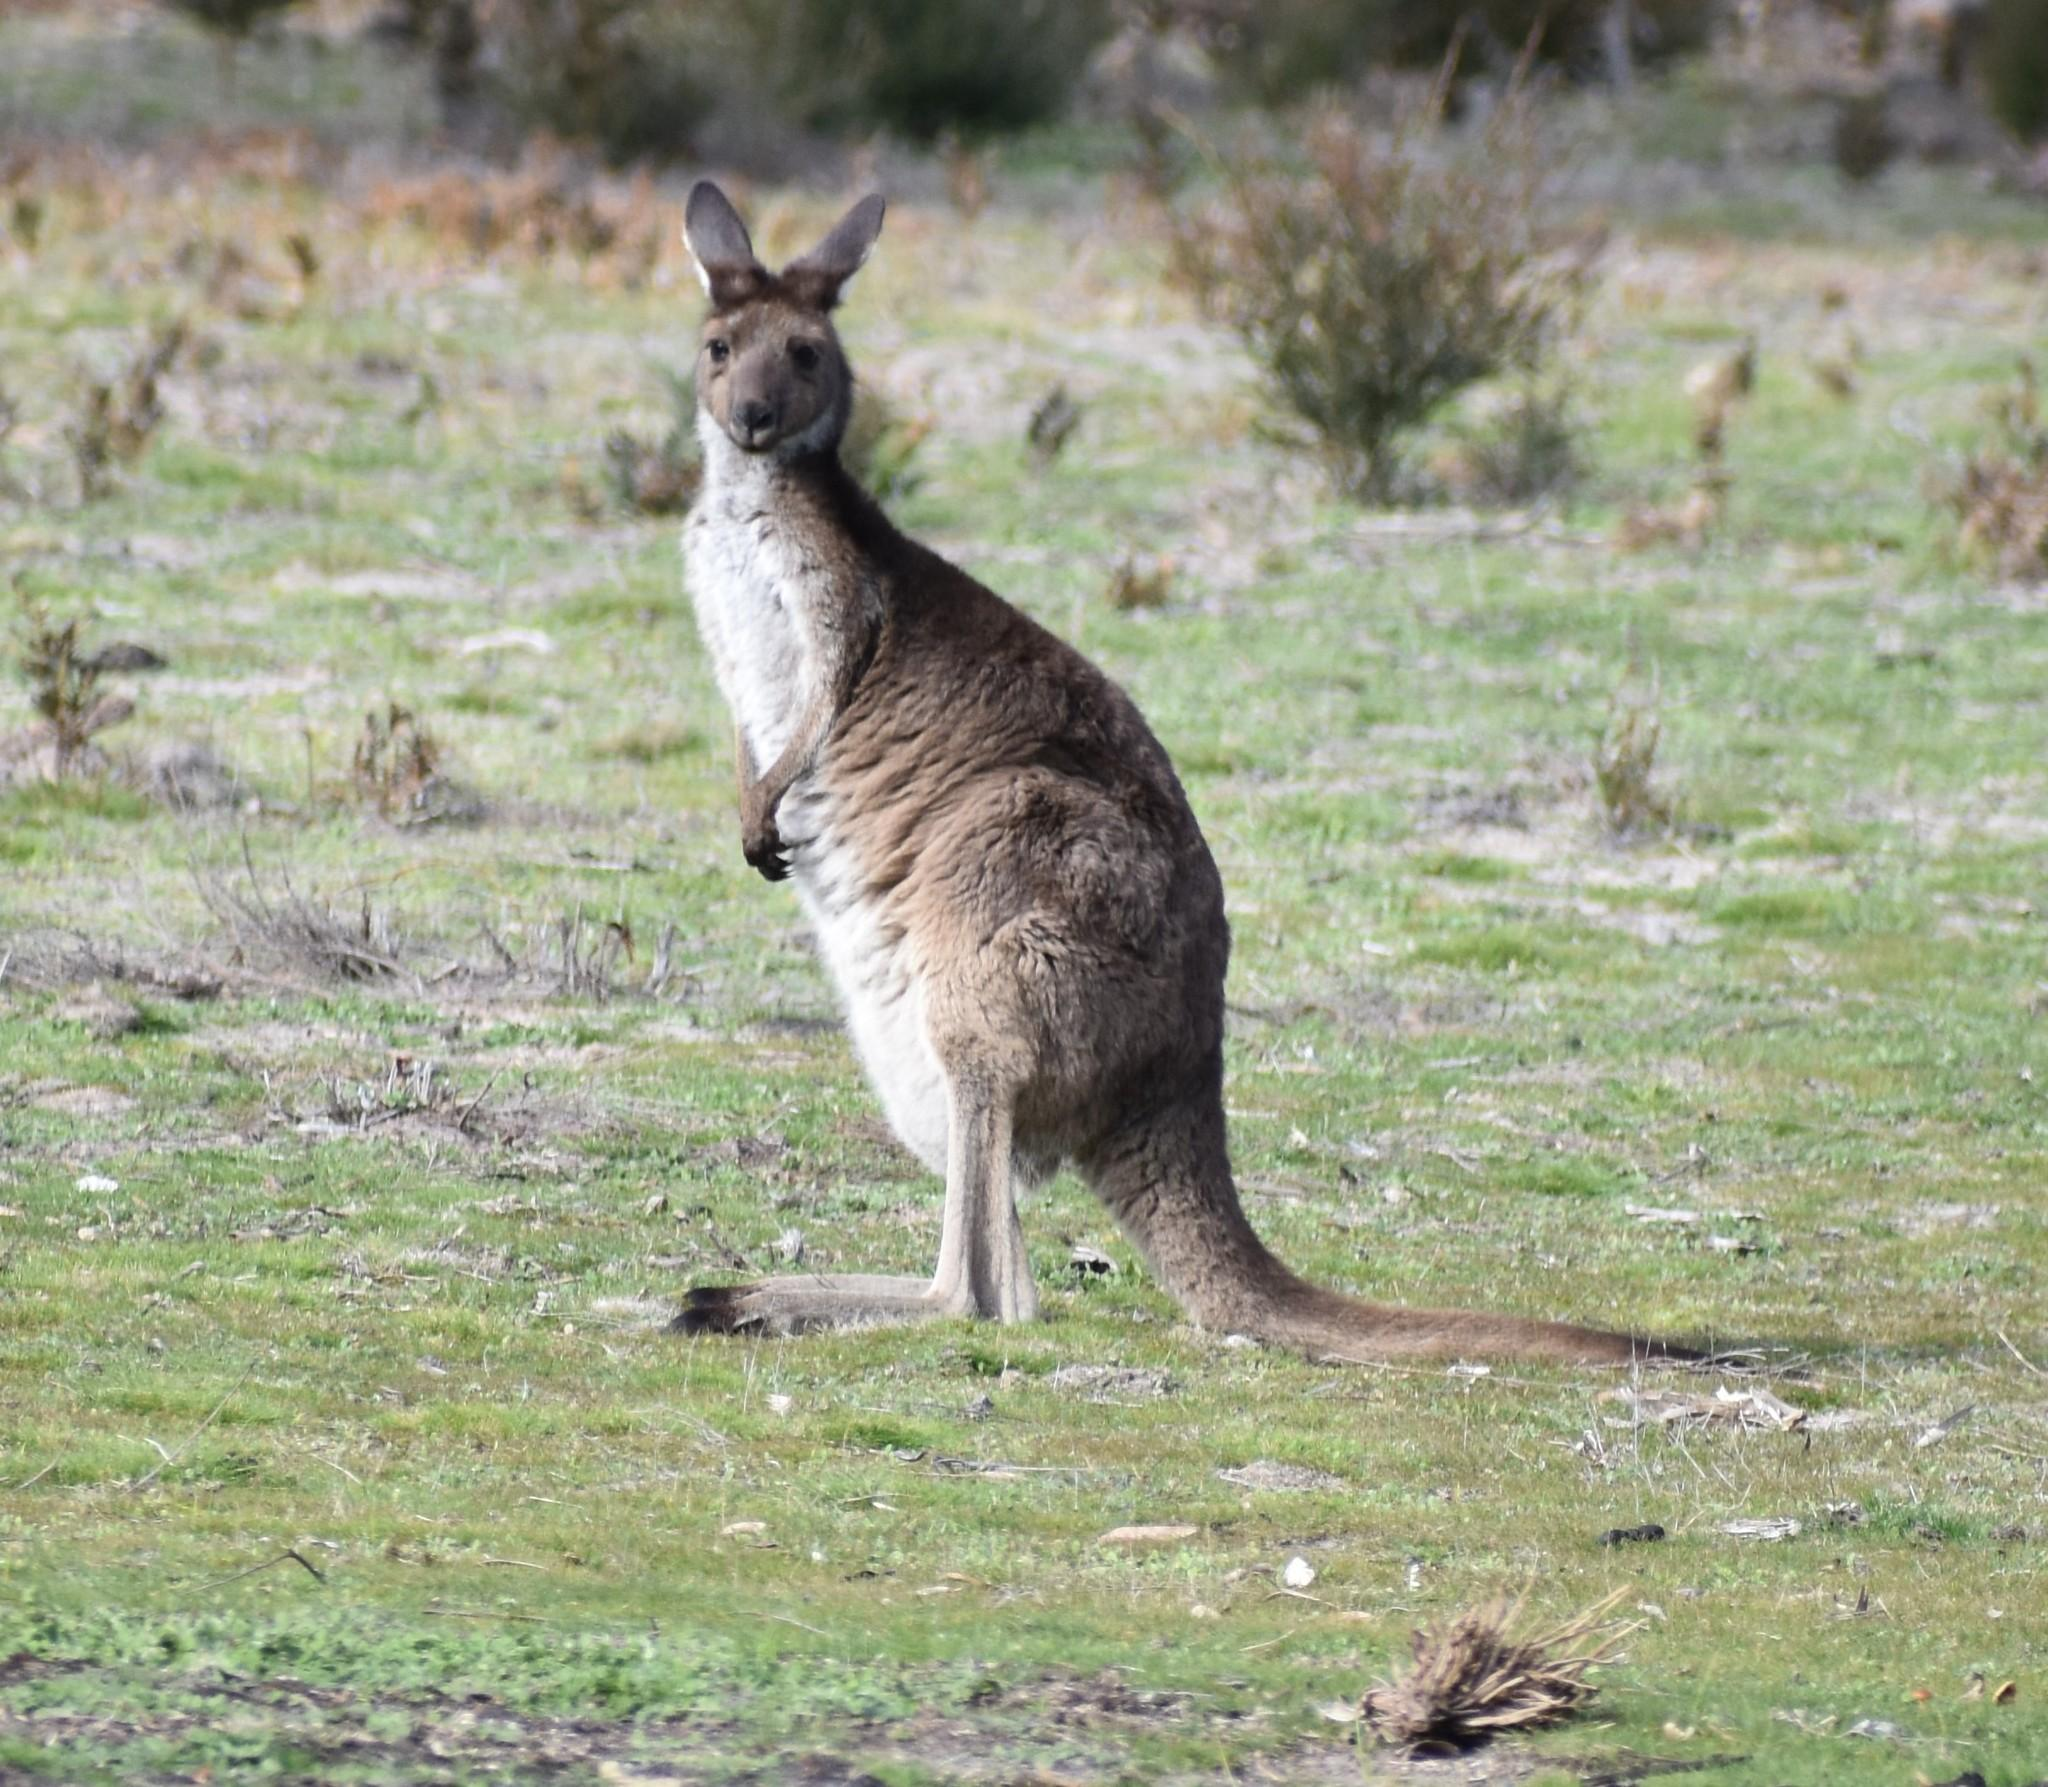Western grey kangaroo: (650, 139, 1883, 1402)
